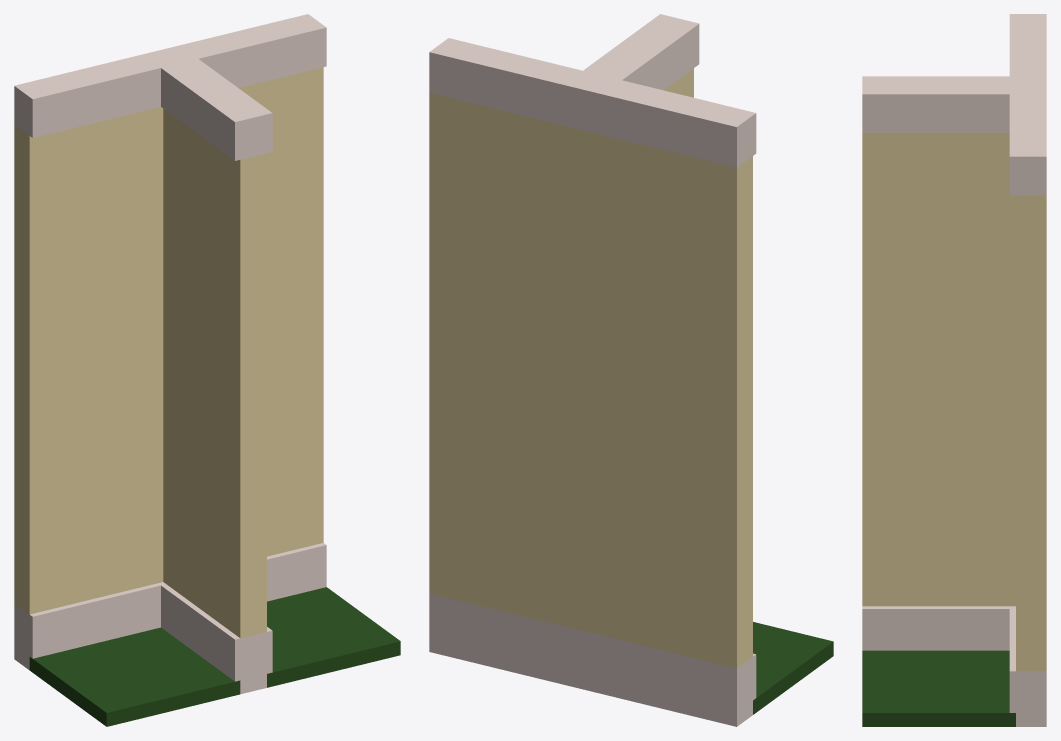
Rendered from Two Side Corner.fbx.
The picture shows the model from 3 angles, left to right: view 1: azimuth 30°, elevation 25°; view 2: azimuth 150°, elevation 25°; view 3: azimuth 270°, elevation 25°; orthographic projection. The views are drawn at different scales.
Parts seen in each view (by area): view 1: Two Side Corner; view 2: Two Side Corner; view 3: Two Side Corner.
Part boxes in pixels (box(x1,y1,x2,y2)): Two Side Corner: box(14, 14, 400, 726); Two Side Corner: box(429, 14, 833, 726); Two Side Corner: box(862, 14, 1046, 726).
Size of the model in its own units: 110 by 205 by 60.
